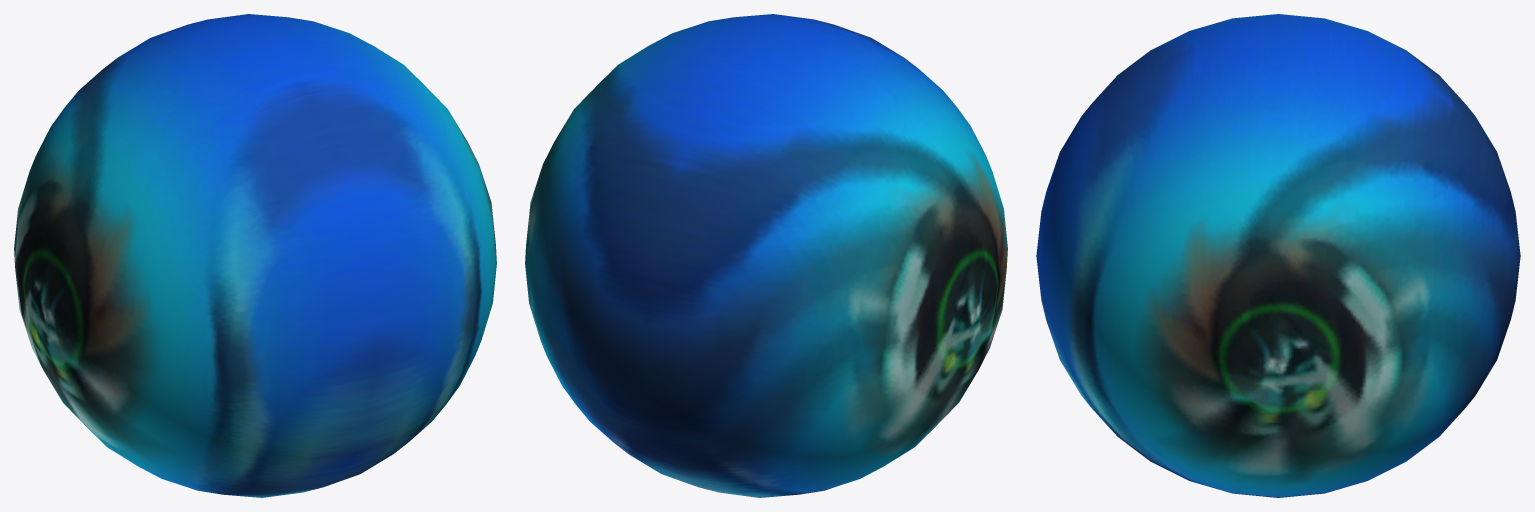
The model's file is XLR8spin.fbx.
3 renders of one model, left to right at view 1: azimuth 30°, elevation 25°; view 2: azimuth 150°, elevation 25°; view 3: azimuth 270°, elevation 25°, orthographic.
Parts seen in each view (by area): view 1: xlr8 spindash; view 2: xlr8 spindash; view 3: xlr8 spindash.
Boxes of the visible parts, x1,y1,x2,y2 form: xlr8 spindash: [14, 14, 496, 497]; xlr8 spindash: [525, 14, 1007, 497]; xlr8 spindash: [1036, 14, 1520, 497].
Bounding box in the file's own units: 171 × 171 × 171.
